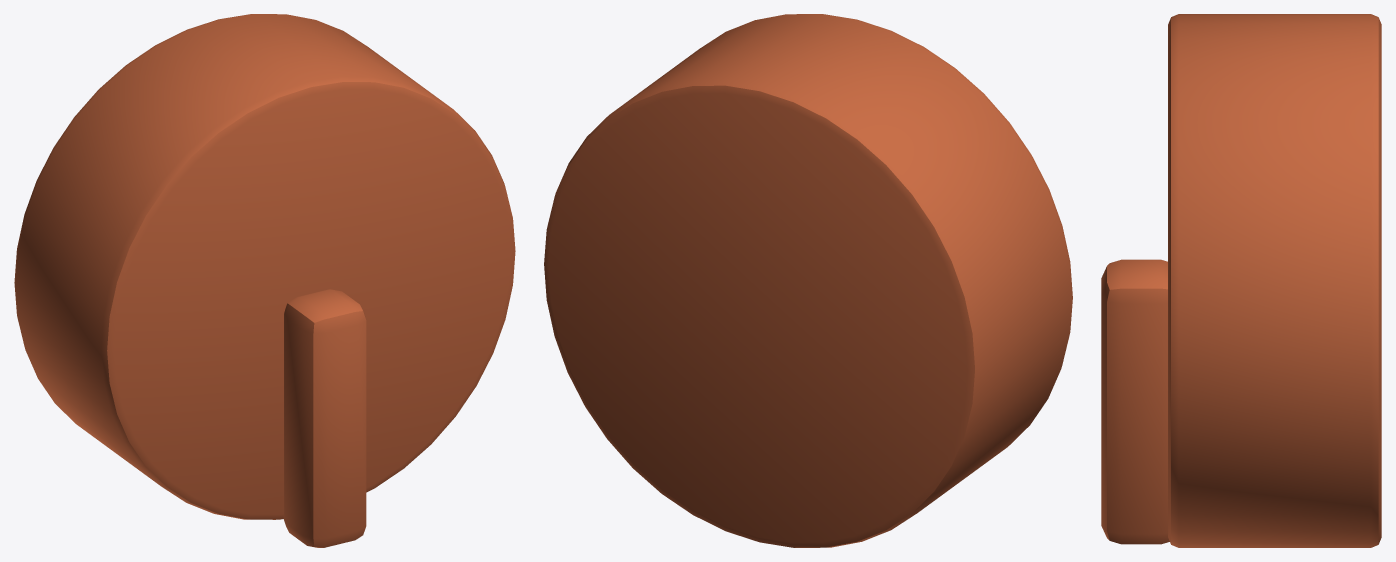
Rendered from dehumidifier_control_knob.glb.
3 views of the same model, side by side, from view 1: azimuth 30°, elevation 25°; view 2: azimuth 150°, elevation 25°; view 3: azimuth 270°, elevation 25° (orthographic). The views are drawn at different scales.
Parts seen in each view (by area): view 1: dehumidifier_control_knob; view 2: dehumidifier_control_knob; view 3: dehumidifier_control_knob.
Boxes of the visible parts, x1=… form: dehumidifier_control_knob: x1=14, y1=14, x2=515, y2=547; dehumidifier_control_knob: x1=544, y1=14, x2=1072, y2=547; dehumidifier_control_knob: x1=1101, y1=14, x2=1381, y2=547.
Size of the model in its own units: 0.04 by 0.041 by 0.021.
